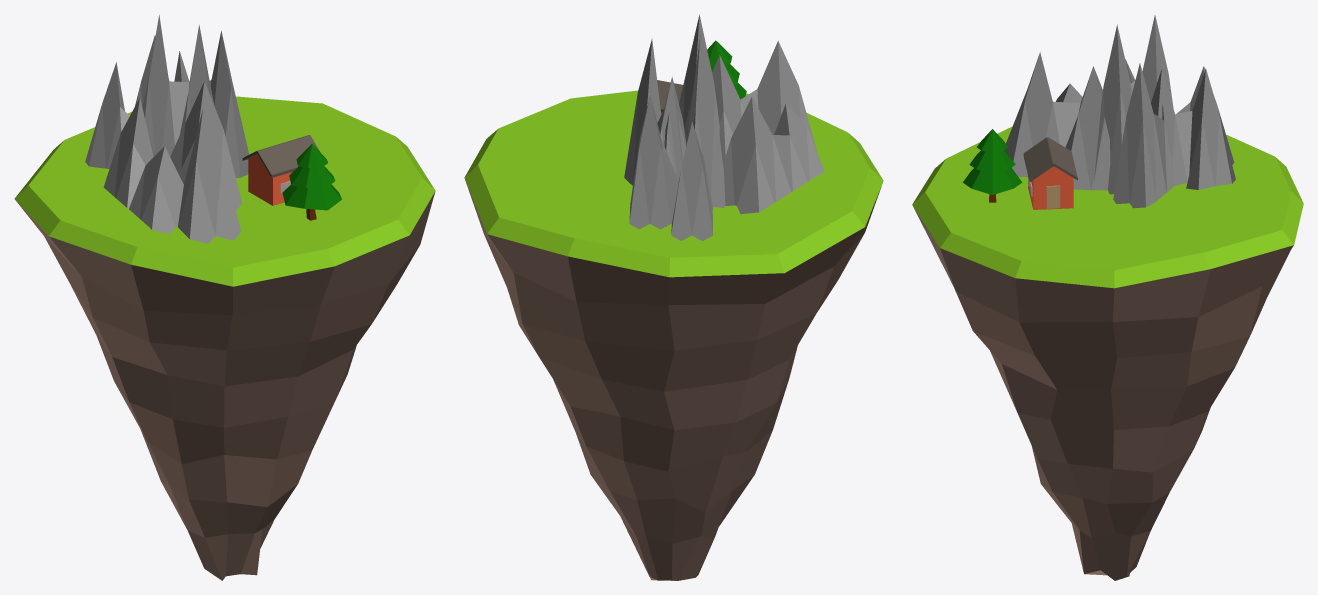
The model's file is miniisland.fbx.
3 views of the same model, side by side, from view 1: azimuth 30°, elevation 25°; view 2: azimuth 150°, elevation 25°; view 3: azimuth 270°, elevation 25° (orthographic). The views are drawn at different scales.
Visible parts, largest first — view 1: Cylinder, Plane, Plane.001, Plane.002, Cube.009, Cube.001, Cube; view 2: Cylinder, Plane, Plane.002, Plane.001, Cube.009; view 3: Cylinder, Plane.001, Plane, Plane.002, Cube.009, Cube.001, Cube.
Part boxes in pixels (x1,y1,x2,y2): Cylinder: (14, 96, 435, 580); Plane: (103, 81, 241, 243); Plane.001: (142, 15, 249, 177); Plane.002: (85, 35, 189, 168); Cube.009: (282, 143, 341, 220); Cube.001: (242, 135, 319, 177); Cube: (248, 154, 292, 205); Cylinder: (464, 90, 883, 580); Plane: (712, 40, 824, 214); Plane.002: (629, 76, 712, 240); Plane.001: (624, 14, 725, 207); Cube.009: (707, 40, 746, 99); Cylinder: (912, 126, 1303, 580); Plane.001: (1094, 15, 1174, 208); Plane: (1004, 52, 1135, 190); Plane.002: (1151, 66, 1235, 189); Cube.009: (963, 129, 1022, 202); Cube.001: (1023, 137, 1077, 182); Cube: (1028, 166, 1073, 209).
Size of the model in its own units: 202 by 296 by 196.
